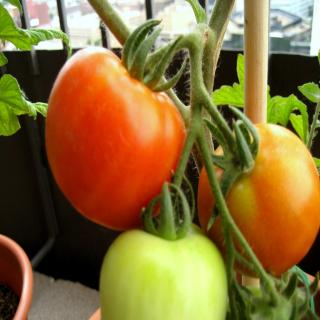tomato: (42, 18, 190, 242), (198, 102, 320, 287), (98, 183, 230, 320)
